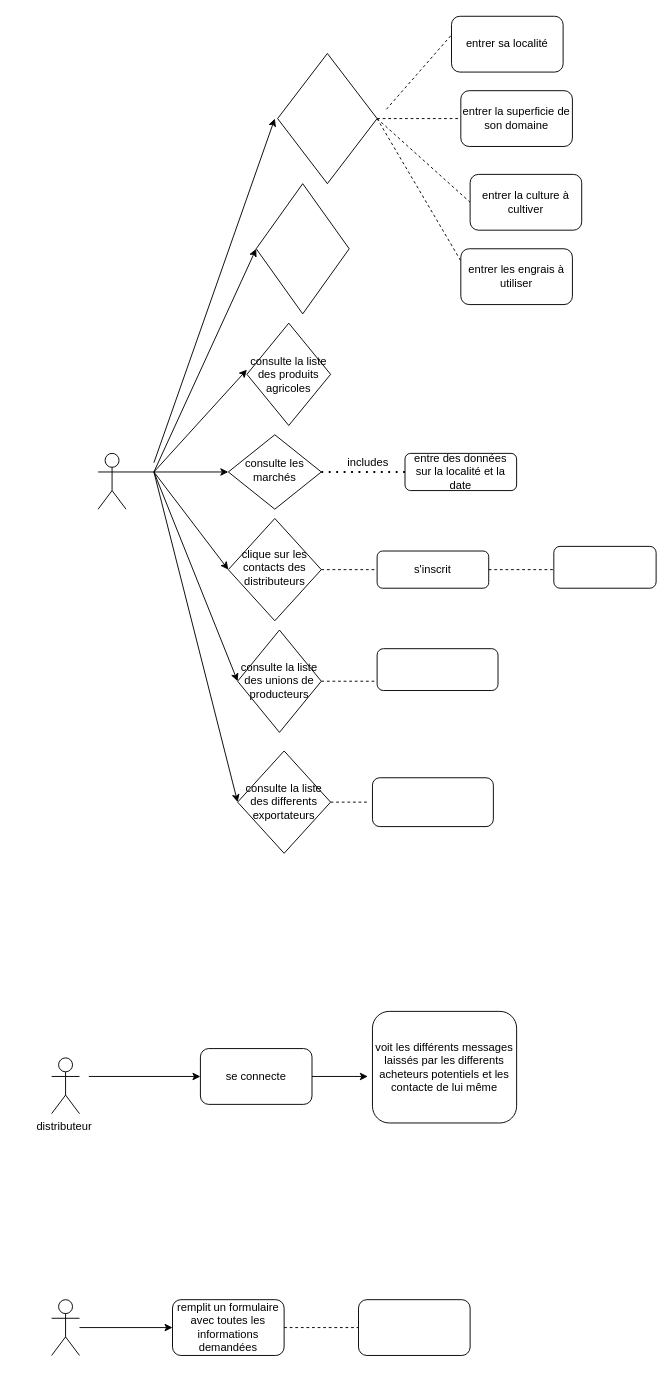
Image size: 672x1391. Some labels were removed from this diagram. Each missing label, with the box of its shape:
Aspirant distributeur: (51, 1299, 80, 1355)
attend qu'on le contacte: (358, 1299, 470, 1355)
compose son message pour le distributeur: (553, 545, 656, 588)
consulte la liste des ONG: (255, 183, 349, 314)
possibilité de relever leur numéro pour les contacter: (372, 777, 493, 827)
prédiction du rendement des récoltes: (277, 53, 377, 184)
relève leurs contacts pour leur parler directement: (376, 648, 498, 691)
simple utilisateur: (97, 452, 126, 509)
